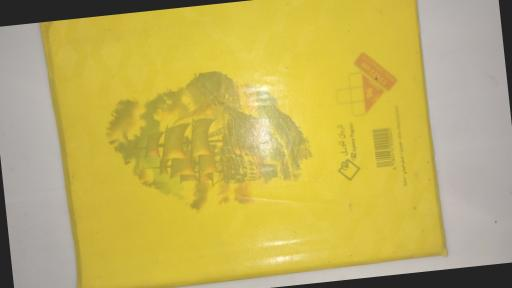notebook: (43, 0, 445, 288)
